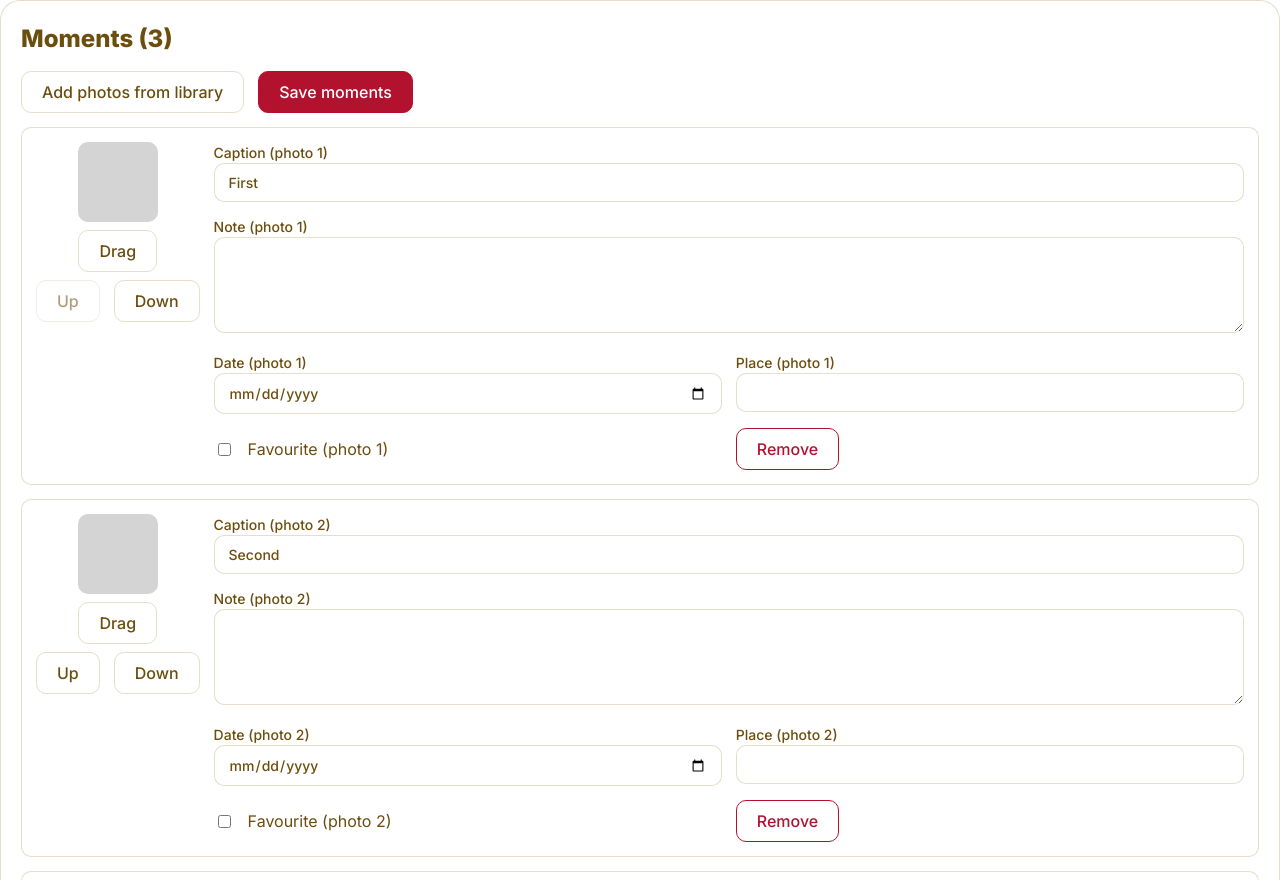
Test: MomentsEditor › drops stale server field errors after a edit
The image size is (1280, 880).
Check: the field labelled "Caption (photo 2)" is shown, box [214,535,1244,574]
Click the button "Save moments" at (336, 92), box [258,71,413,113]
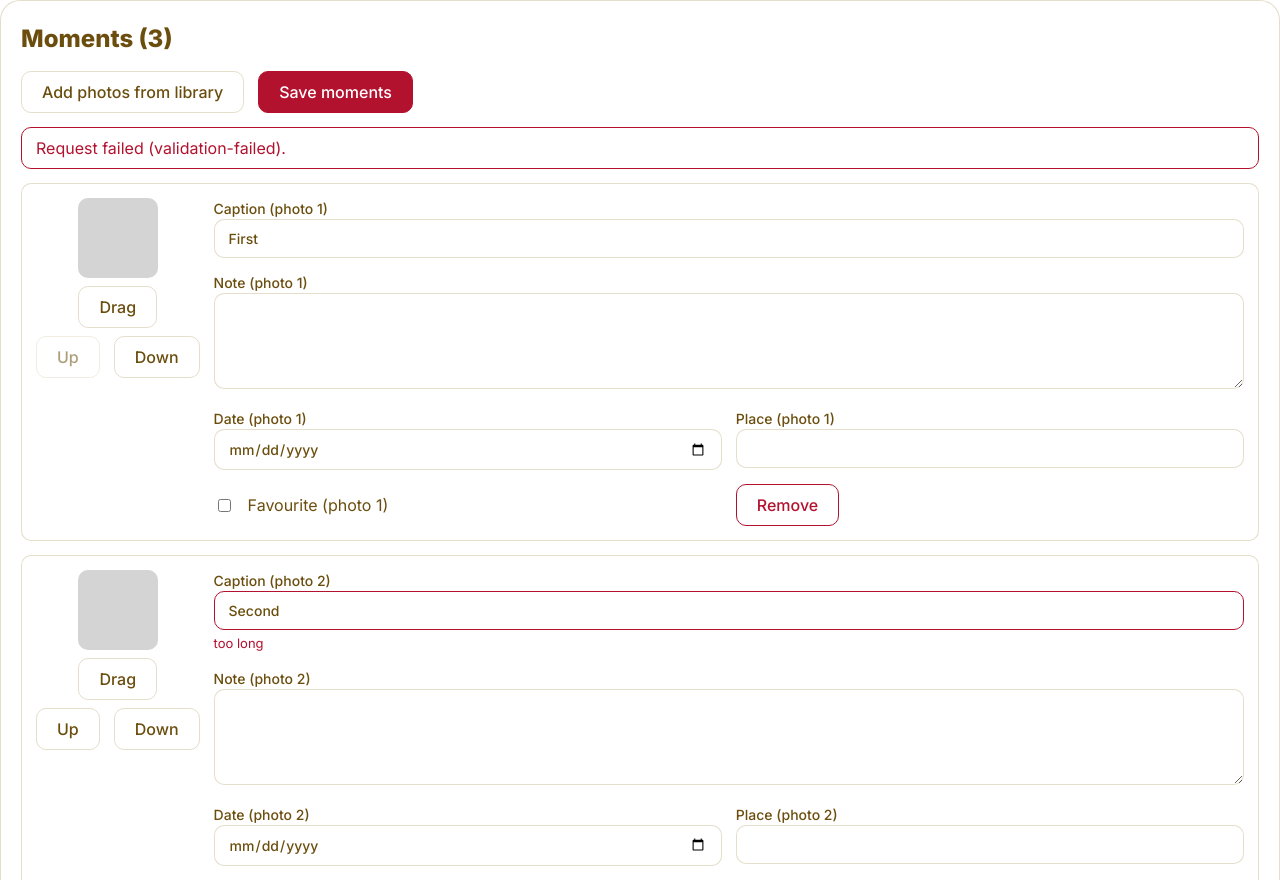
Check: the text "too long" is shown, box [214,635,264,651]
Type "Goa" into the field labelled "Place (photo 1)" at (990, 448), box [736,429,1244,468]
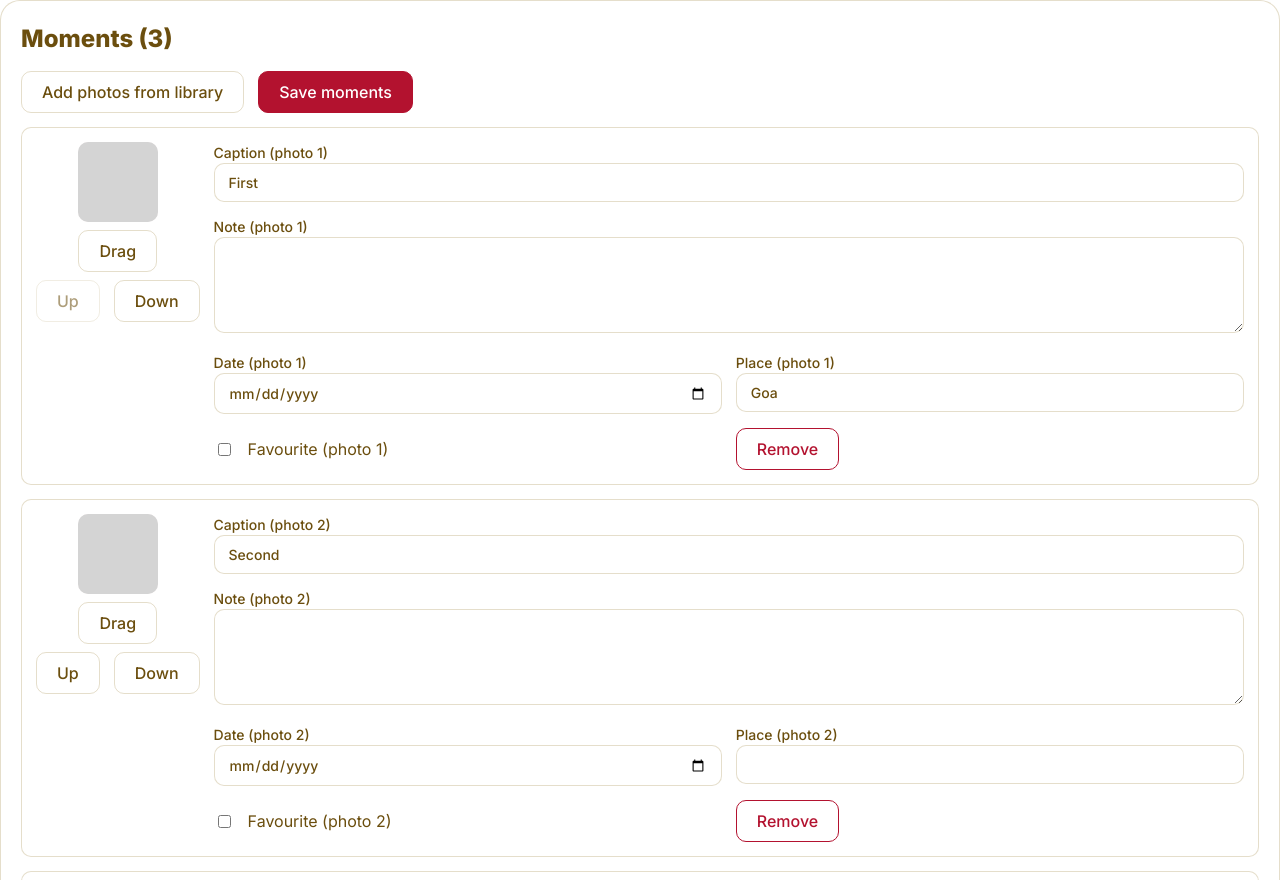
Check: the text "too long" is gone
